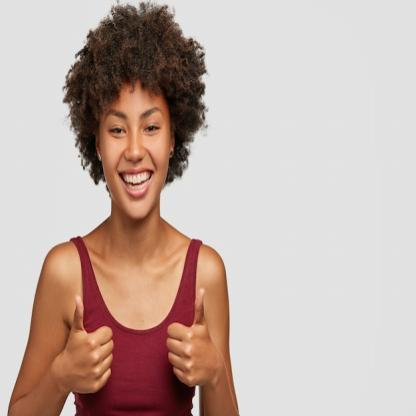thumb_up: (164, 284, 217, 391), (61, 292, 114, 398)
